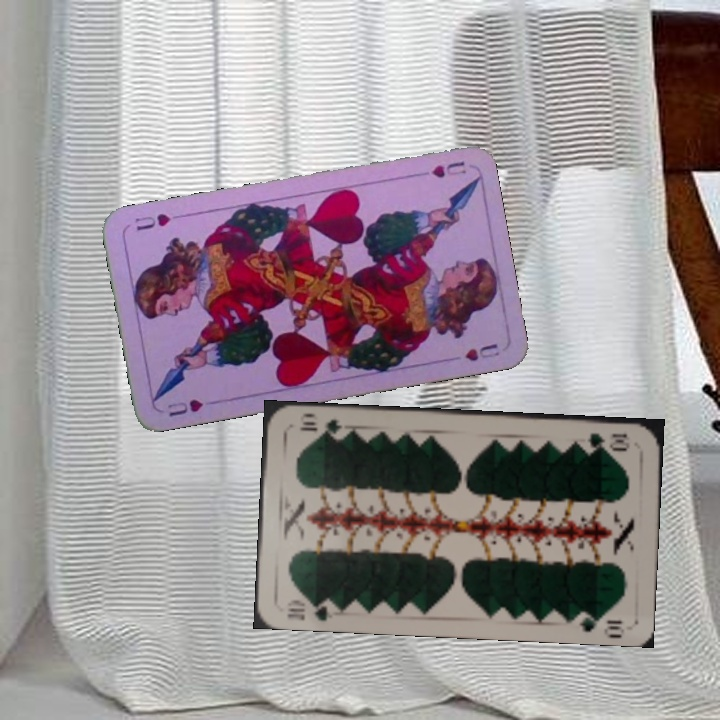G10: (283, 595, 338, 623), (584, 429, 633, 452)
HU: (411, 157, 469, 181), (164, 395, 206, 419)
